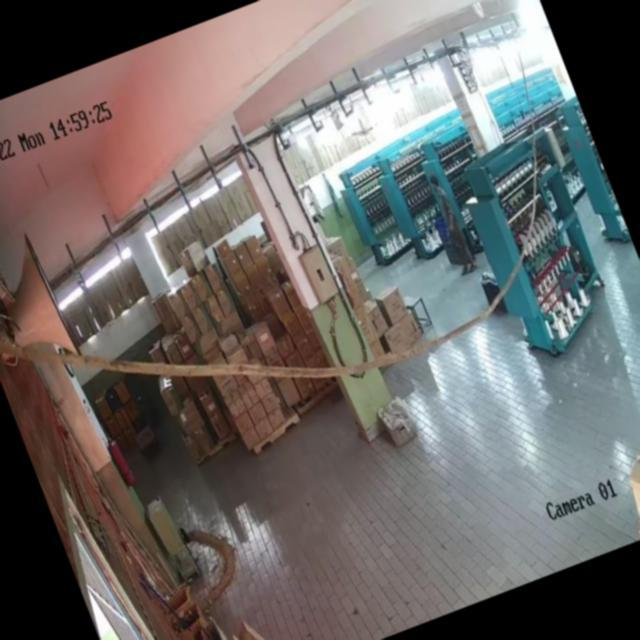person: (428, 170, 478, 268)
